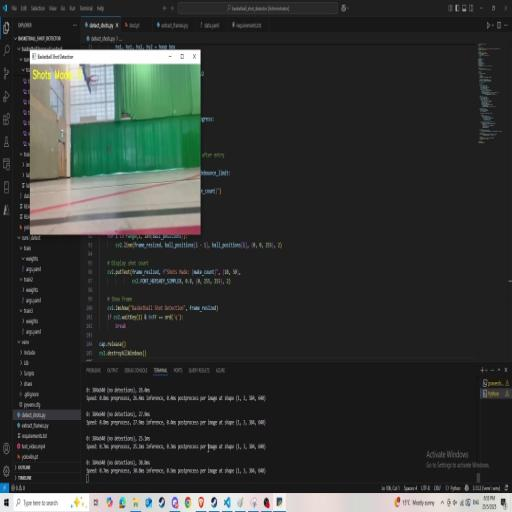hoops: (90, 74, 102, 93)
